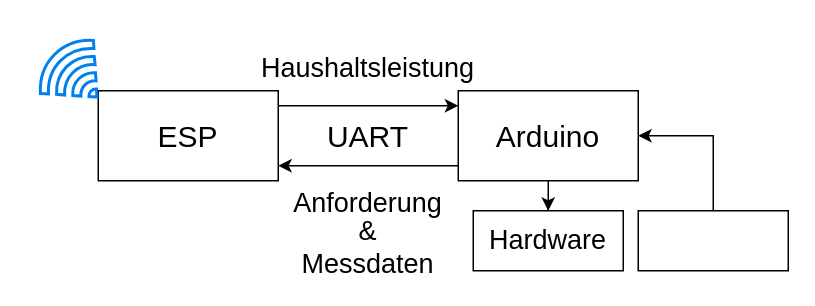
The diagram is 815 pixels wide and 306 high, and some of its shapes have lost their labels. The shapes that lost their labels are listed below. From the top down, each one's centre as x and y in pixels, then its label:
At (75,75): "WLAN".
At (712,240): "Sensoren".
